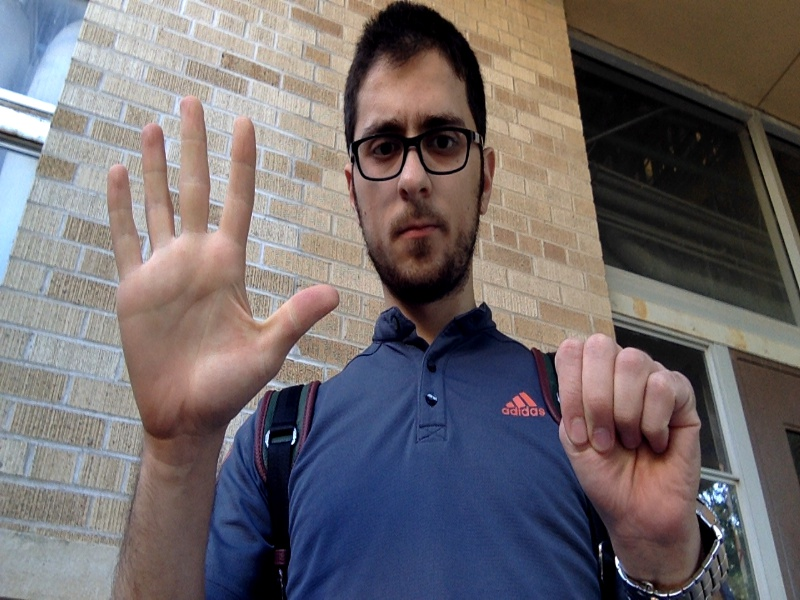0-hand: (556, 334, 701, 544)
5-hand: (108, 96, 338, 443)
